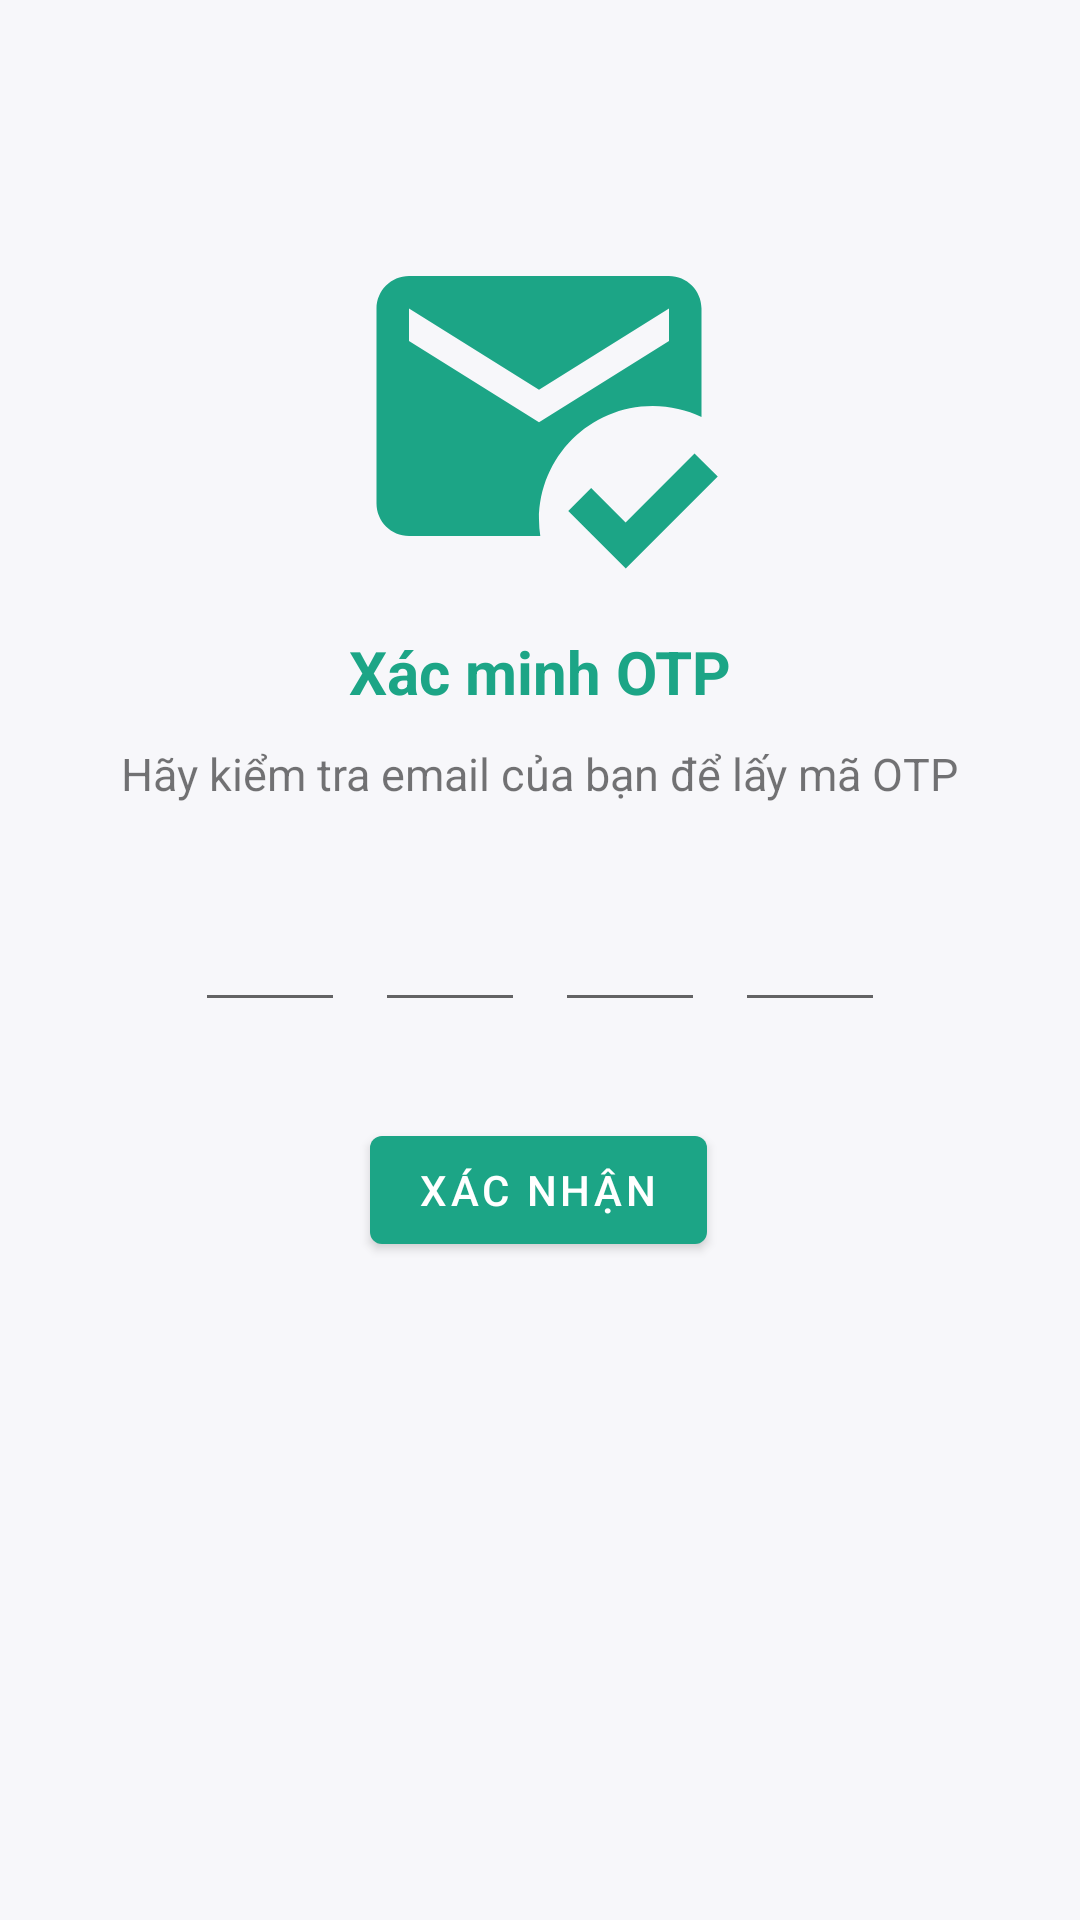

Locate icon controls on the screen. Image size 1080px x 1920px, boxes as bbox(x1, y1, x2, y2).
mark email read: bbox(376, 276, 718, 569)
